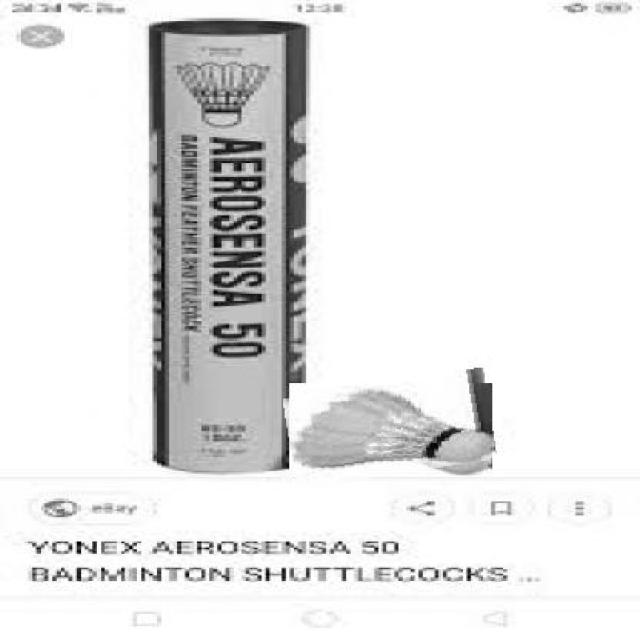Shuttlecock: (286, 375, 496, 483)
